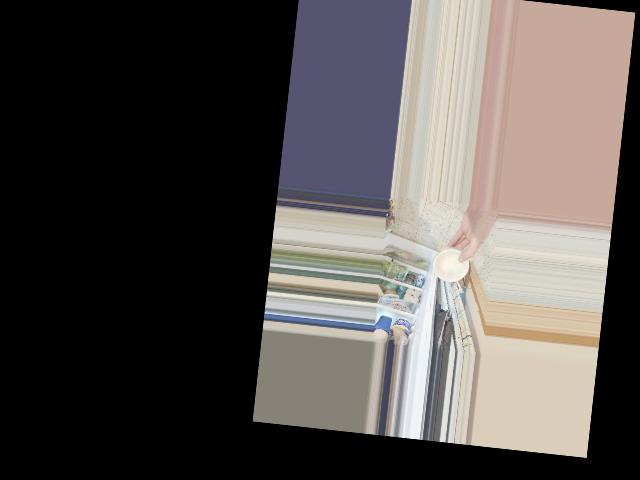cotage: (430, 246, 469, 286)
